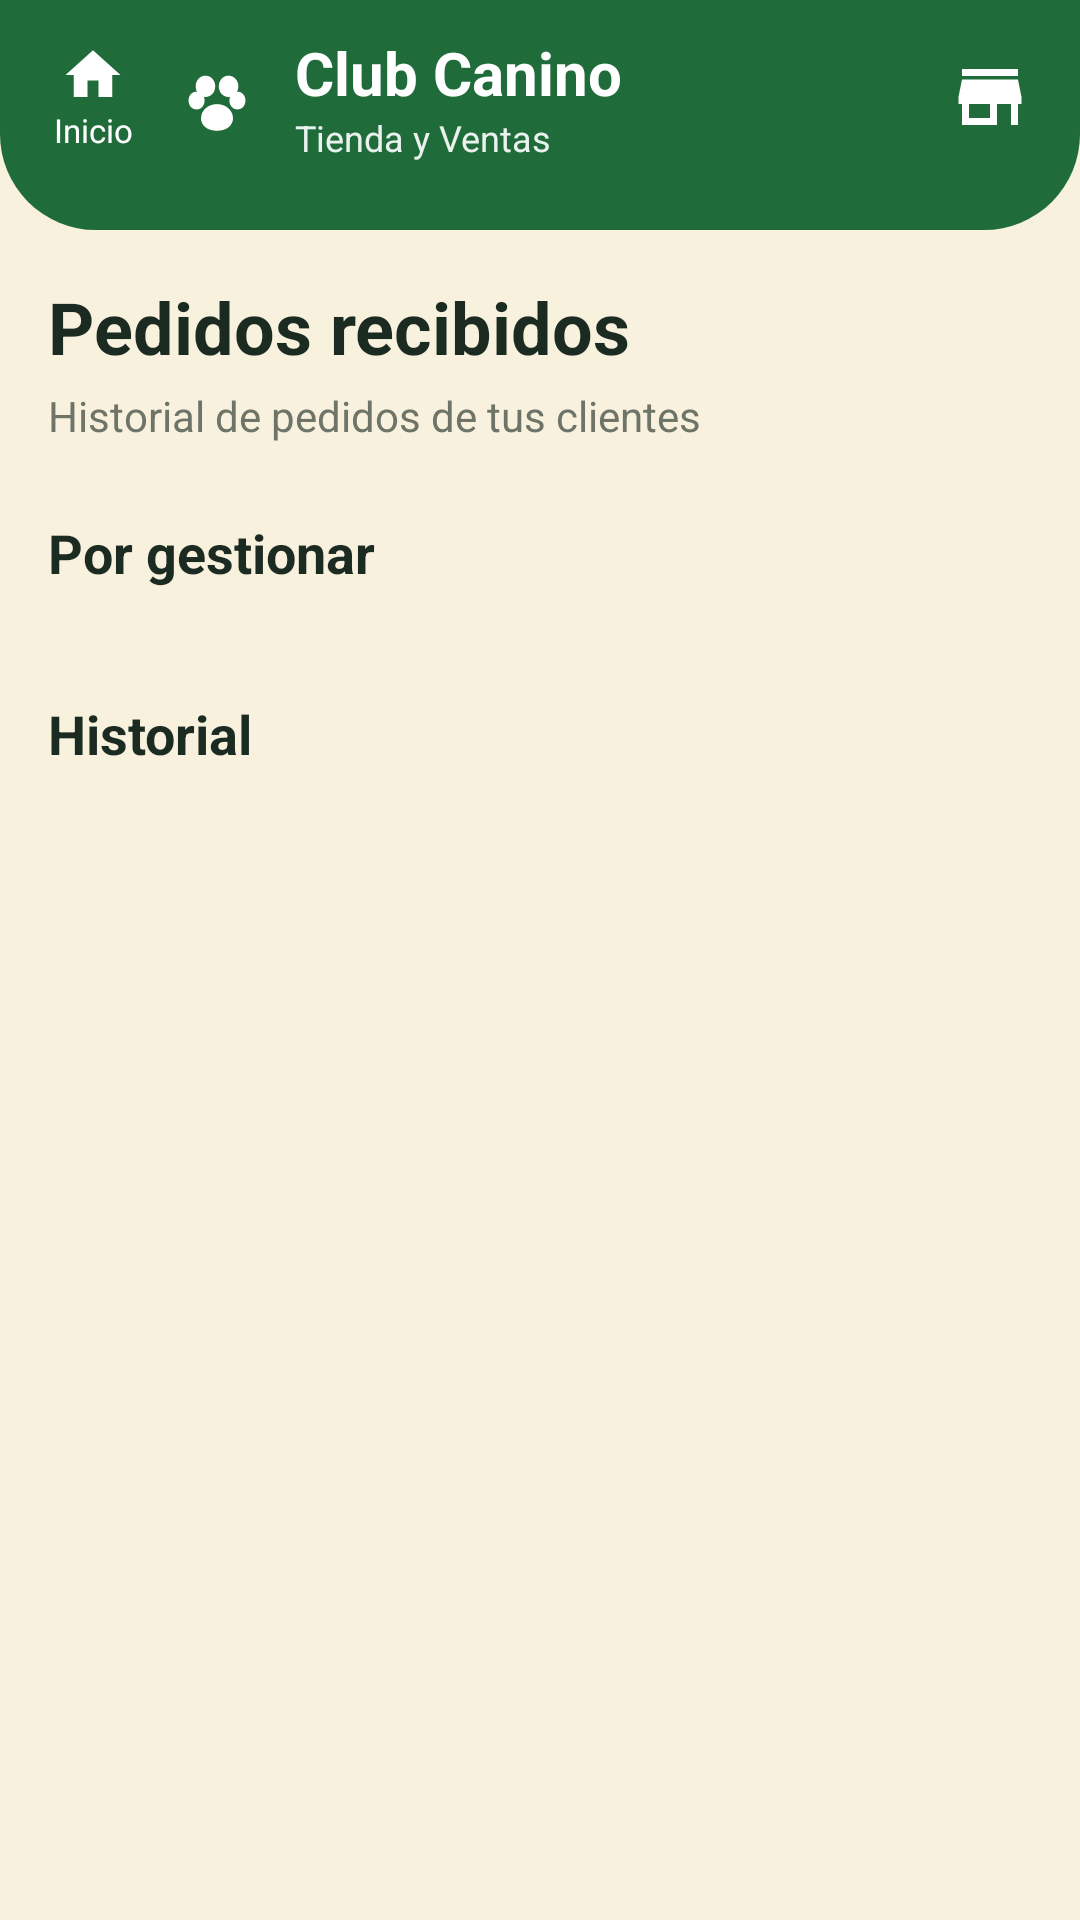

Point at icon controls on the screen. Image size 1080×1920, points as point (x, y).
paw: point (217, 103)
store: point (990, 97)
